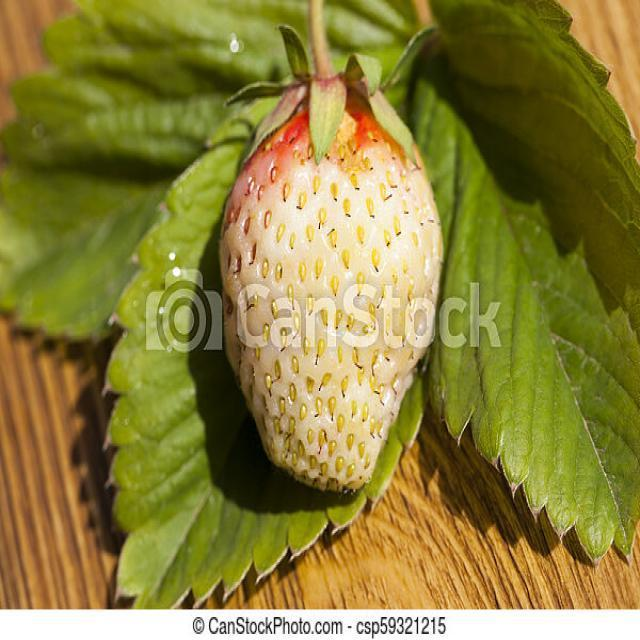strawberry: (222, 80, 442, 492)
